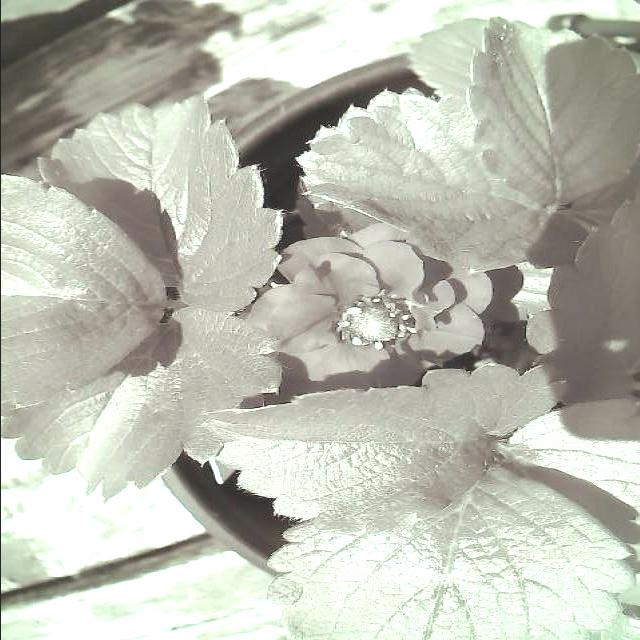flower: (242, 220, 497, 418)
